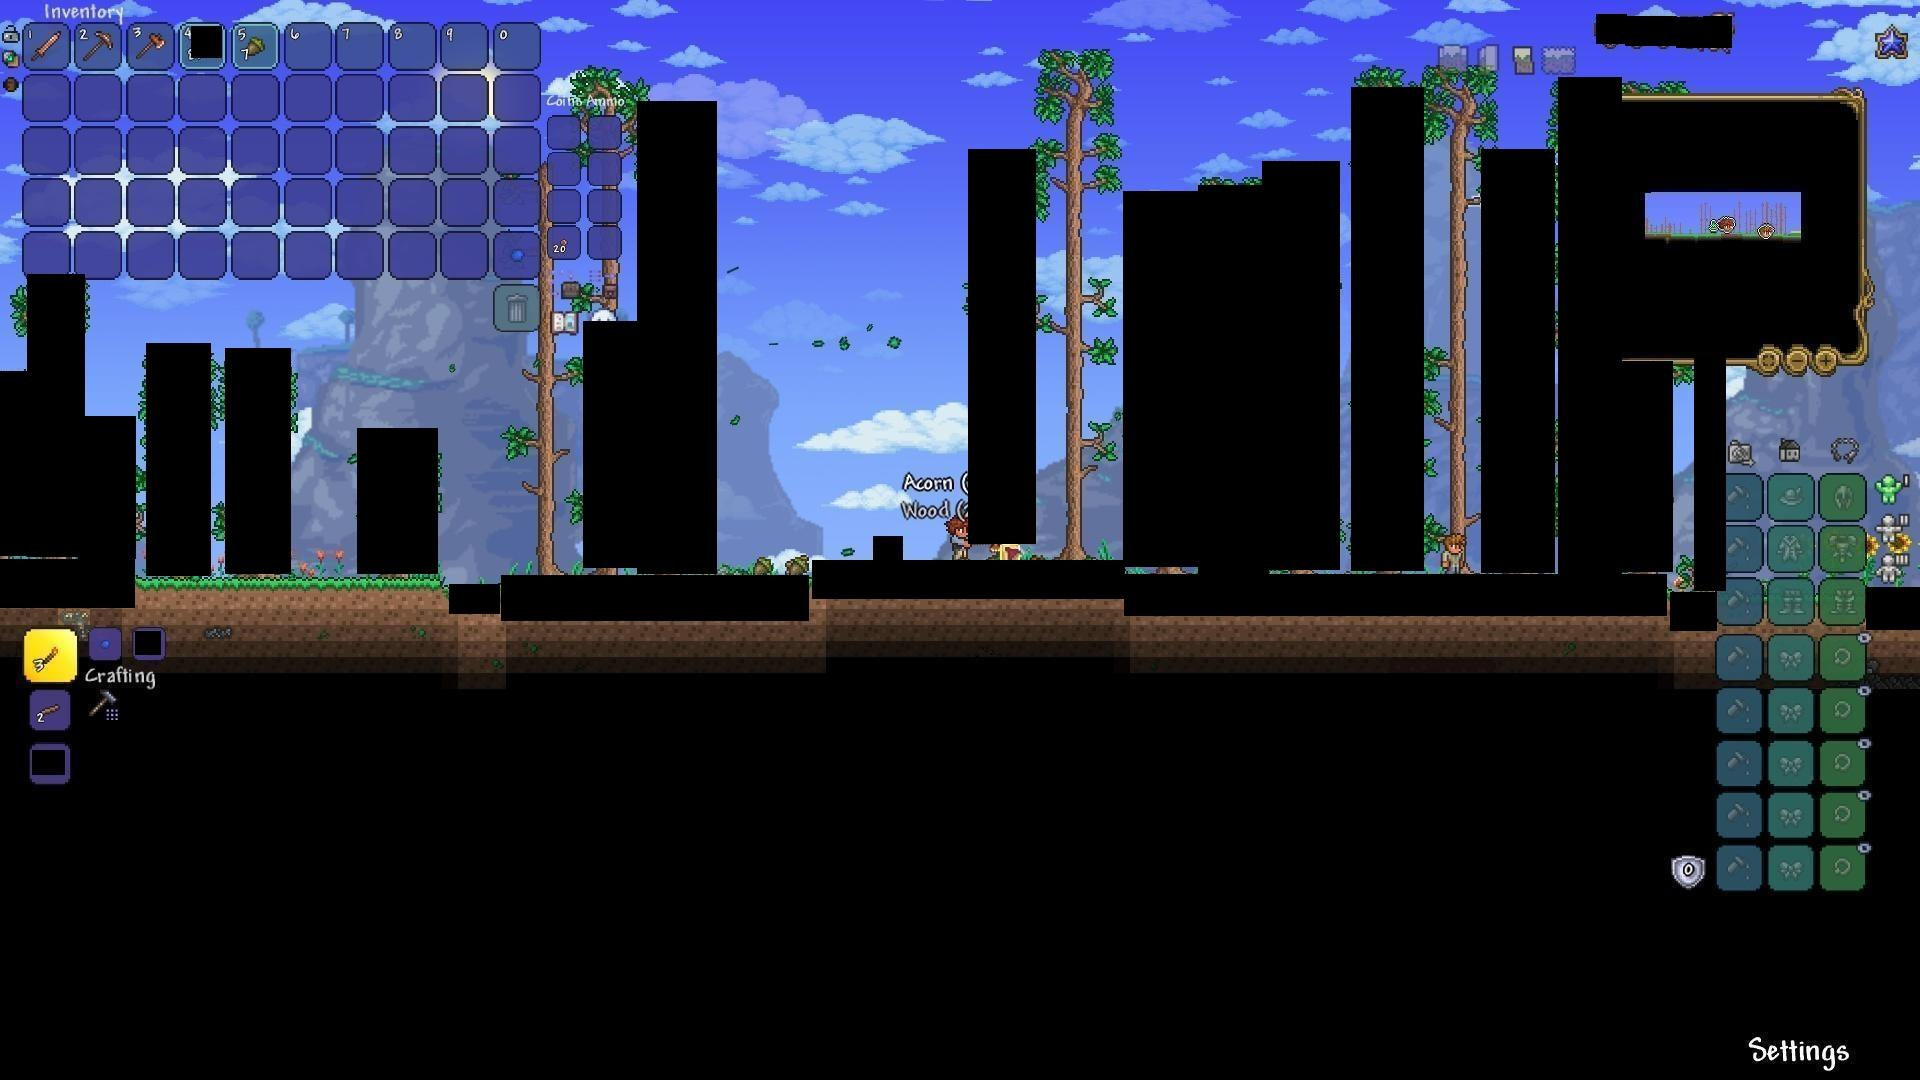dirt: (138, 578, 448, 620)
tree: (1039, 45, 1116, 556), (1420, 62, 1484, 574), (509, 316, 568, 574)
